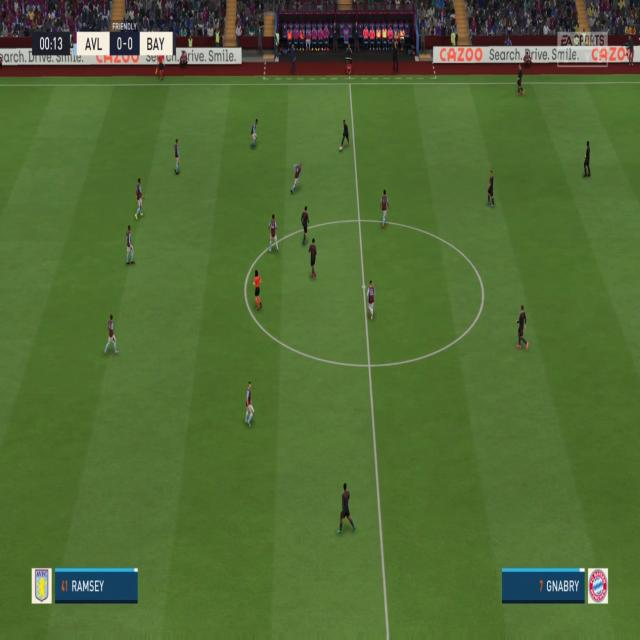Ball: (339, 147, 342, 152)
Referee: (254, 274, 264, 311)
Team-A: (337, 484, 357, 535), (516, 58, 530, 97), (516, 306, 528, 348), (308, 242, 318, 280), (487, 170, 497, 208), (583, 143, 592, 180), (339, 121, 350, 151), (248, 119, 258, 150), (301, 208, 310, 238)
Team-H: (104, 312, 118, 354), (134, 177, 146, 220), (124, 225, 136, 268), (245, 381, 256, 427), (267, 215, 280, 253), (378, 190, 390, 228), (366, 279, 376, 320), (290, 162, 302, 195), (172, 140, 181, 175)
